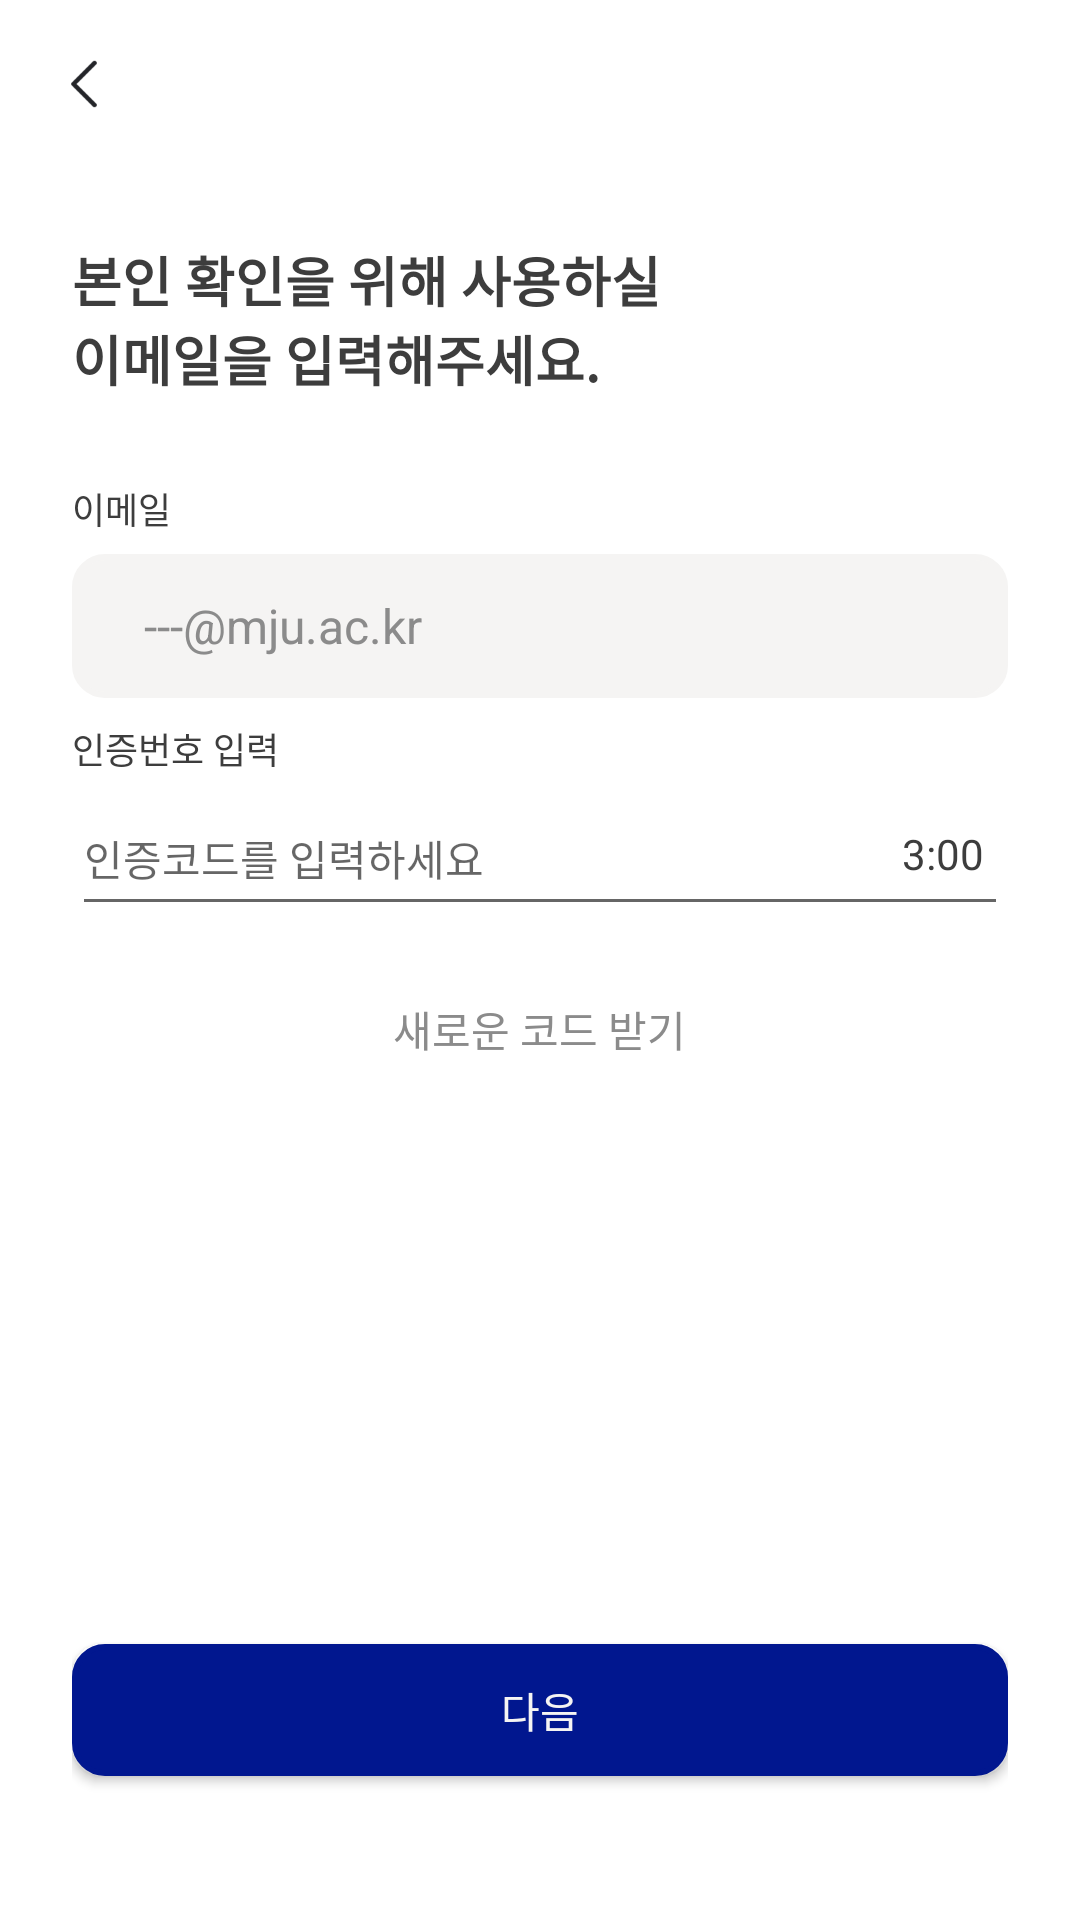

Icon bounding boxes for this 1080px×1920px phone screenshot, format (x1, y1, x2, y2):
arrow: (71, 60, 97, 108)
